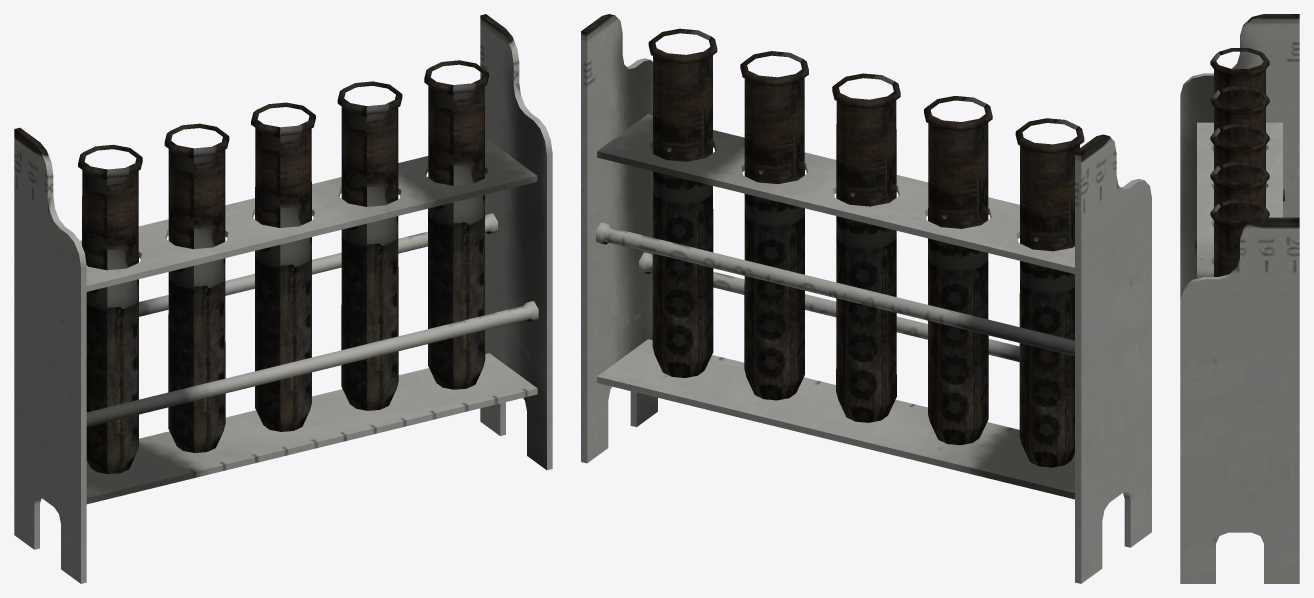
The model's file is tubos.glb.
3 views of the same model, side by side, from view 1: azimuth 30°, elevation 25°; view 2: azimuth 150°, elevation 25°; view 3: azimuth 270°, elevation 25° (orthographic). The views are drawn at different scales.
Parts seen in each view (by area): view 1: vial_lp; view 2: vial_lp; view 3: vial_lp.
Boxes of the visible parts, x1,y1,x2,y2 form: vial_lp: (14, 14, 552, 583); vial_lp: (581, 14, 1151, 583); vial_lp: (1180, 14, 1299, 583).
Size of the model in its own units: 2.04 by 1.68 by 0.5.
1 material, 1 textured.
